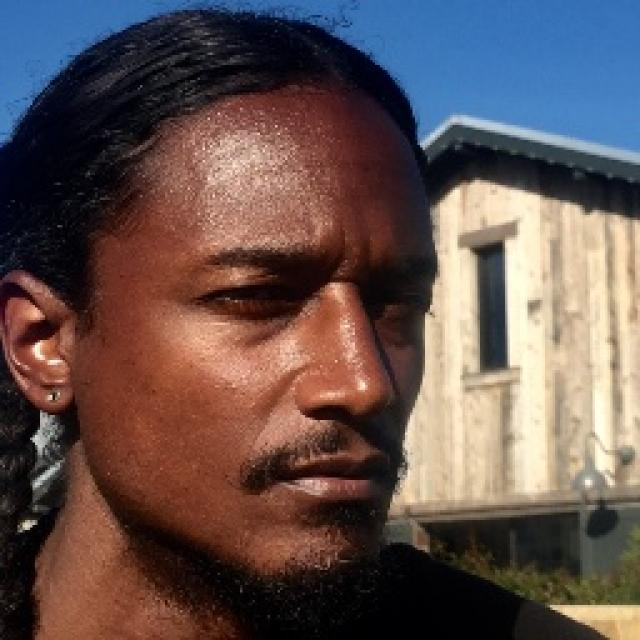earlobe: (0, 272, 74, 413)
